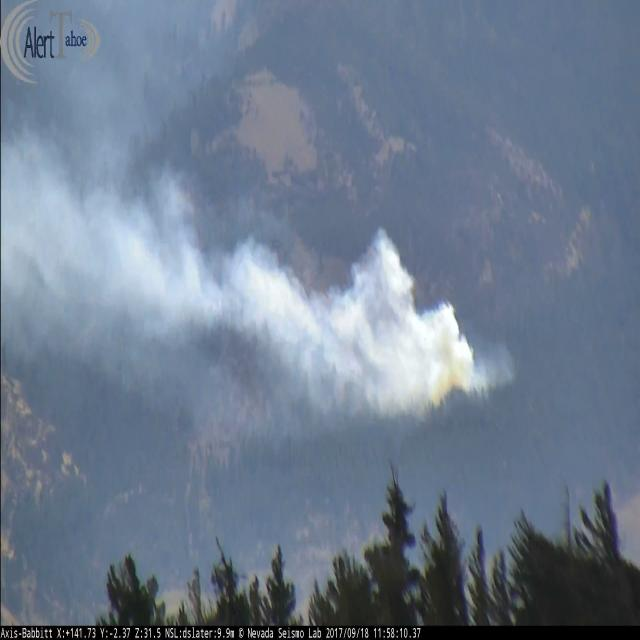smoke: (1, 126, 517, 417)
